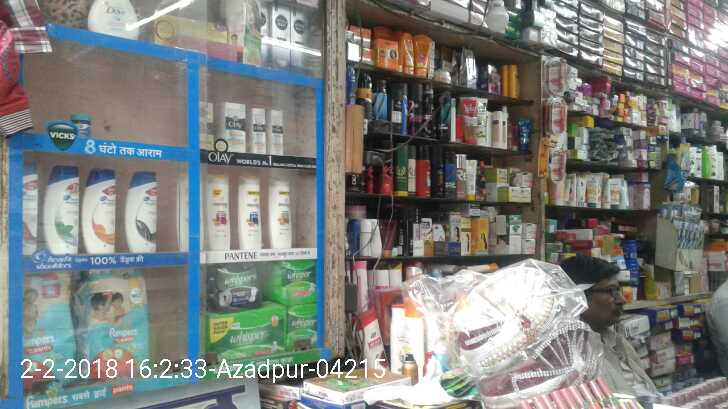vicks: (69, 113, 92, 137)
